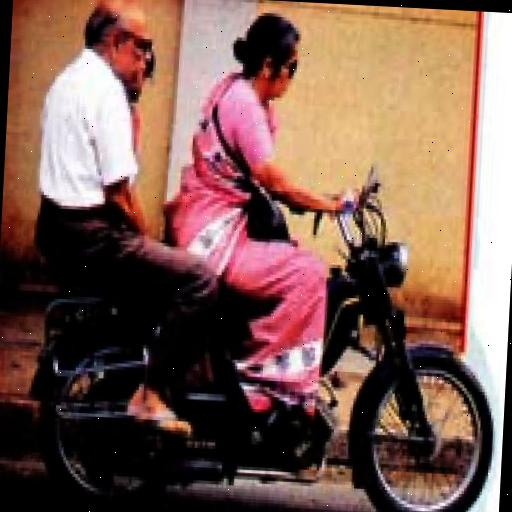no helmet: (159, 0, 512, 498)
